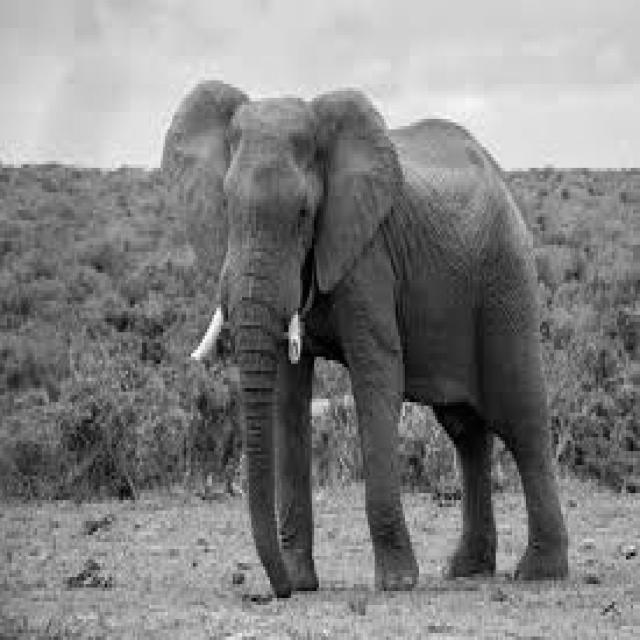Elephant: (158, 77, 570, 594)
